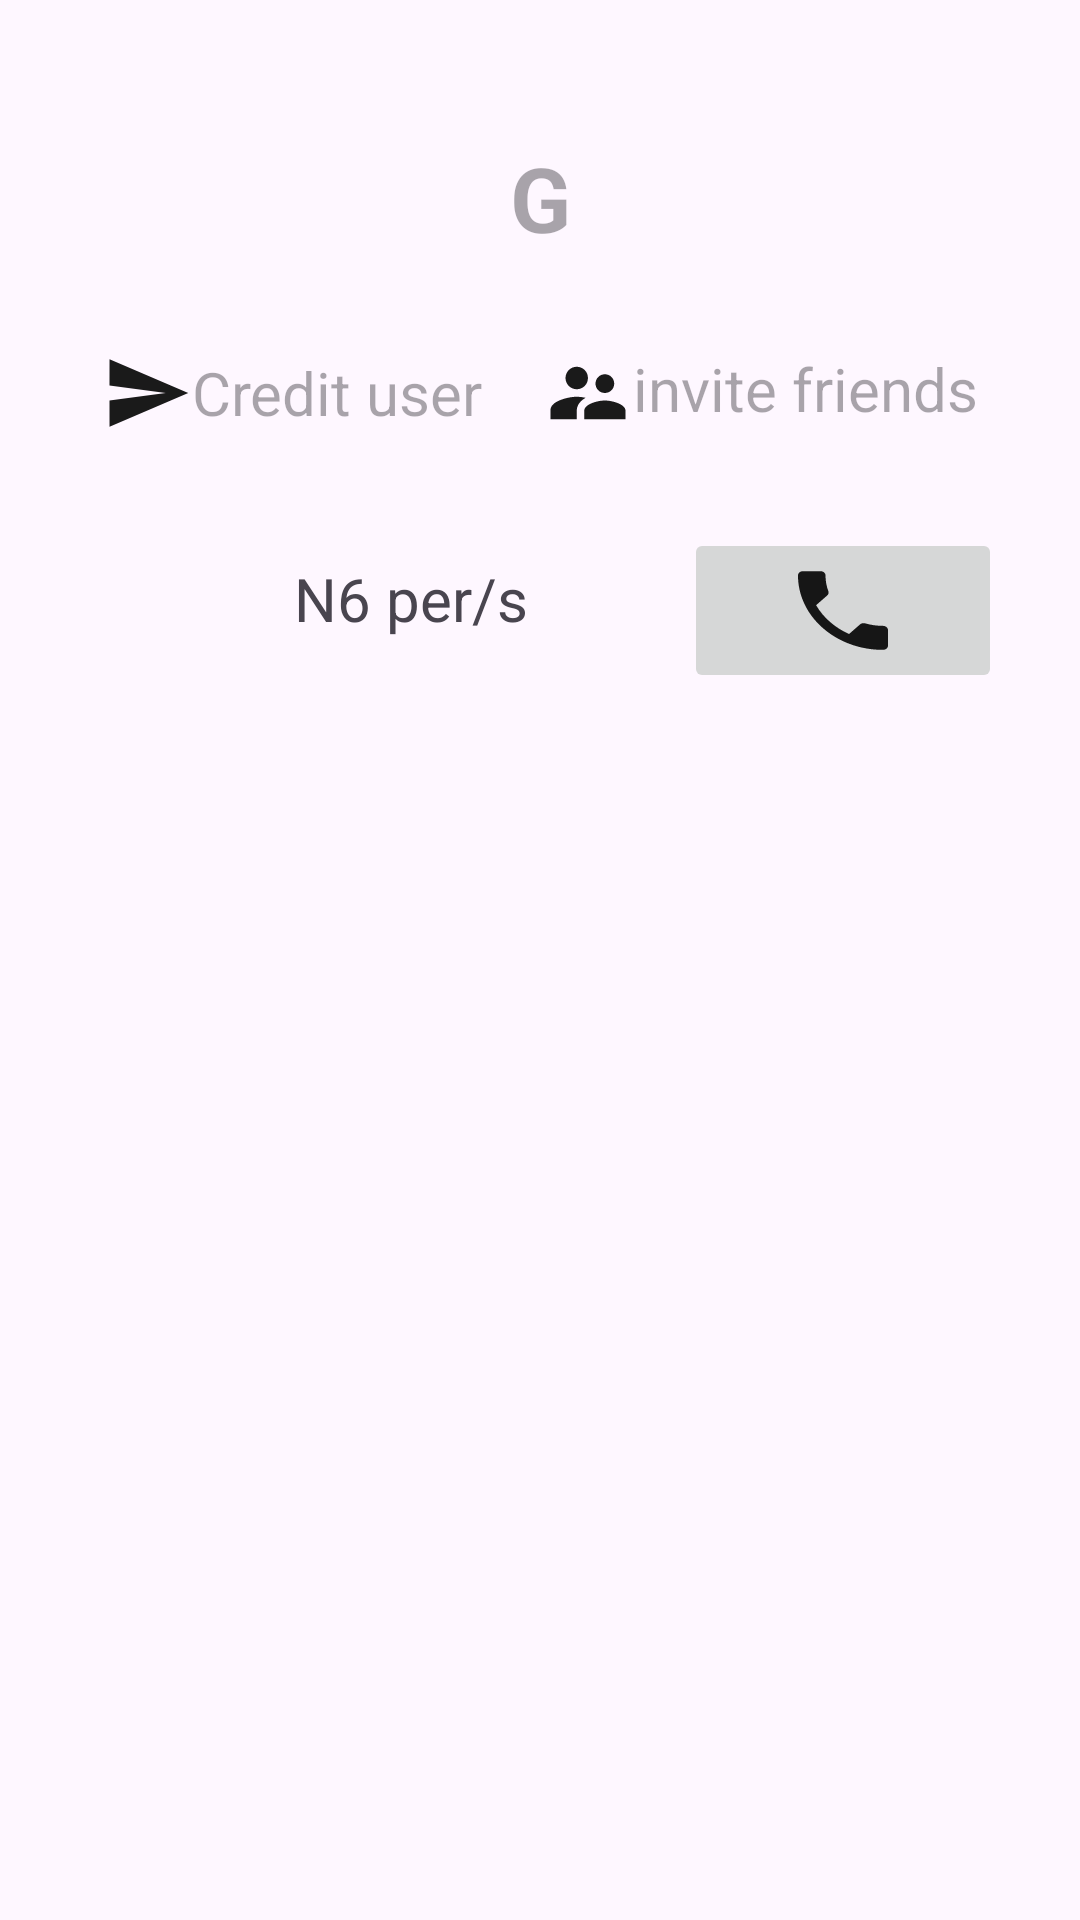

Locate icon controls on the screen. Image size 1080*1920, boxes as (x1, y1, x2, y2).
call button: (696, 546, 990, 675)
send: (109, 359, 188, 427)
